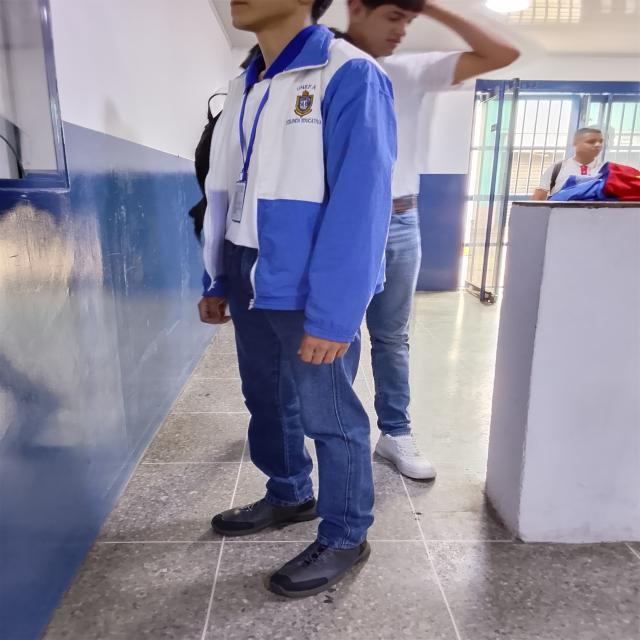carnet: (231, 183, 246, 221)
chaqueta_unefa: (200, 23, 399, 343)
